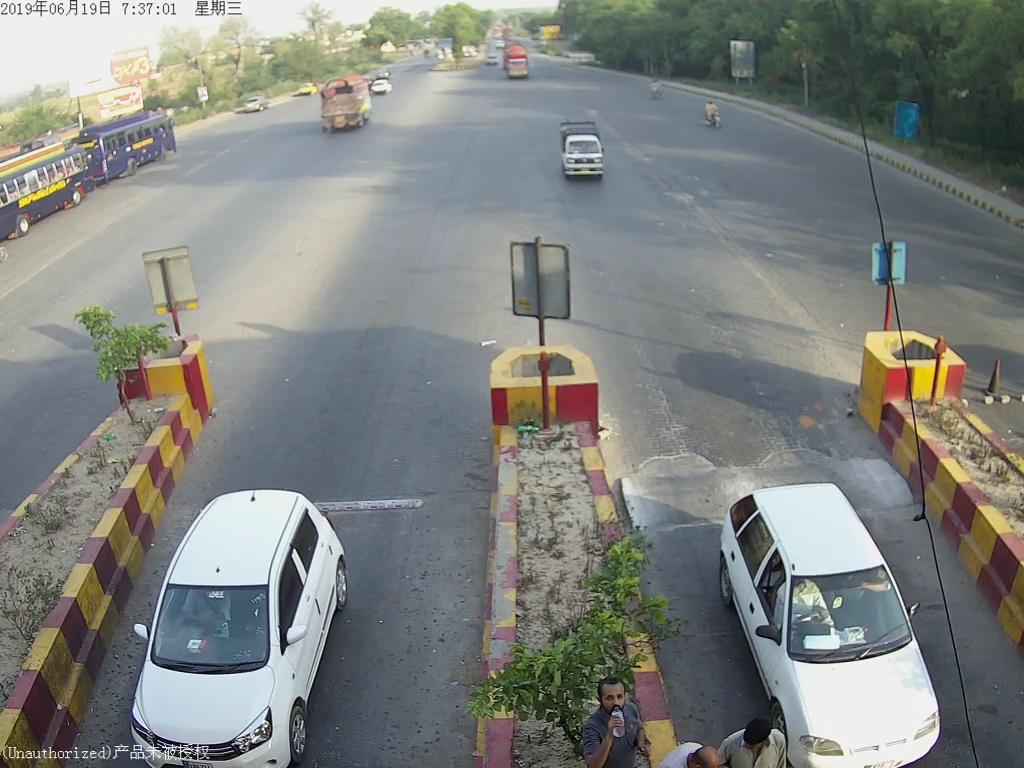Cat-1: (724, 488, 944, 765), (139, 489, 353, 763), (554, 116, 612, 180)
